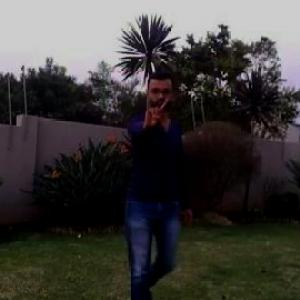takeoff-hand: (134, 86, 178, 130)
